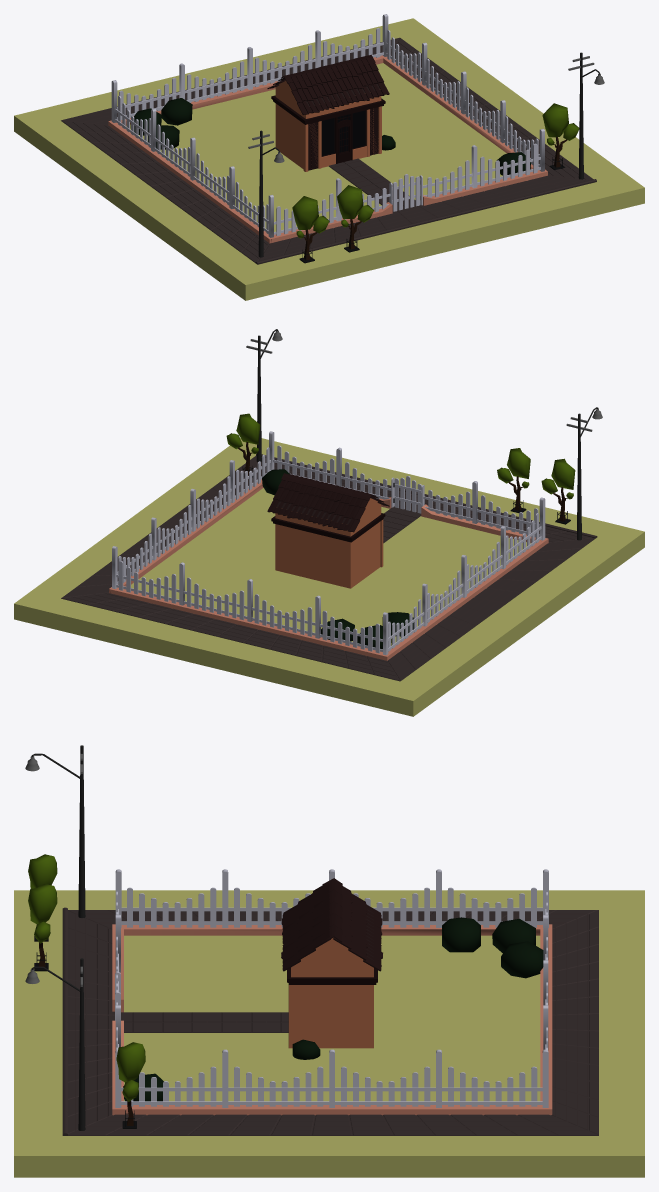
Rendered from 02_House.FBX.
3 renders of one model, top to bottom at view 1: azimuth 30°, elevation 25°; view 2: azimuth 150°, elevation 25°; view 3: azimuth 270°, elevation 25°, orthographic. The views are drawn at different scales.
Visible parts, largest first — view 1: Base, Paving, Fence_Bricks, Box001, Paving_Under House, Box008, GeoSphere005, GeoSphere014, GeoSphere008, GeoSphere011, Cylinder003, Cylinder005 (+3 smaller); view 2: Base, Paving, Box001, Fence_Bricks, Paving_Under House, Box008, GeoSphere005, GeoSphere008, GeoSphere011; view 3: Base, Paving, Fence_Bricks, Box001, Paving_Under House, GeoSphere014, GeoSphere003, GeoSphere016, Cylinder003, Cylinder005, GeoSphere005, GeoSphere011 (+2 smaller).
Part boxes in pixels (x1,y1,x2,y2): Base: [14, 18, 644, 300]; Paving: [61, 37, 593, 262]; Fence_Bricks: [108, 55, 547, 243]; Box001: [275, 80, 381, 169]; Paving_Under House: [328, 158, 415, 210]; Box008: [271, 95, 385, 124]; GeoSphere005: [542, 103, 568, 137]; GeoSphere014: [161, 98, 192, 125]; GeoSphere008: [292, 196, 318, 229]; GeoSphere011: [337, 185, 363, 219]; Cylinder003: [258, 130, 263, 257]; Cylinder005: [578, 52, 583, 179]; Base: [14, 438, 644, 716]; Paving: [61, 455, 594, 681]; Box001: [275, 498, 381, 588]; Fence_Bricks: [109, 479, 548, 660]; Paving_Under House: [383, 507, 421, 543]; Box008: [271, 513, 385, 542]; GeoSphere005: [236, 413, 260, 444]; GeoSphere008: [551, 458, 575, 489]; GeoSphere011: [507, 448, 530, 478]; Base: [14, 890, 644, 1177]; Paving: [68, 910, 598, 1135]; Fence_Bricks: [112, 924, 552, 1115]; Box001: [291, 937, 373, 1048]; Paving_Under House: [121, 1012, 288, 1032]; GeoSphere014: [501, 941, 543, 978]; GeoSphere003: [442, 917, 480, 952]; GeoSphere016: [492, 918, 535, 953]; Cylinder003: [78, 745, 85, 917]; Cylinder005: [78, 958, 85, 1130]; GeoSphere005: [116, 1042, 145, 1082]; GeoSphere011: [28, 884, 57, 924].
Size of what is drawn, in the model's own units: 530 by 179 by 532.
